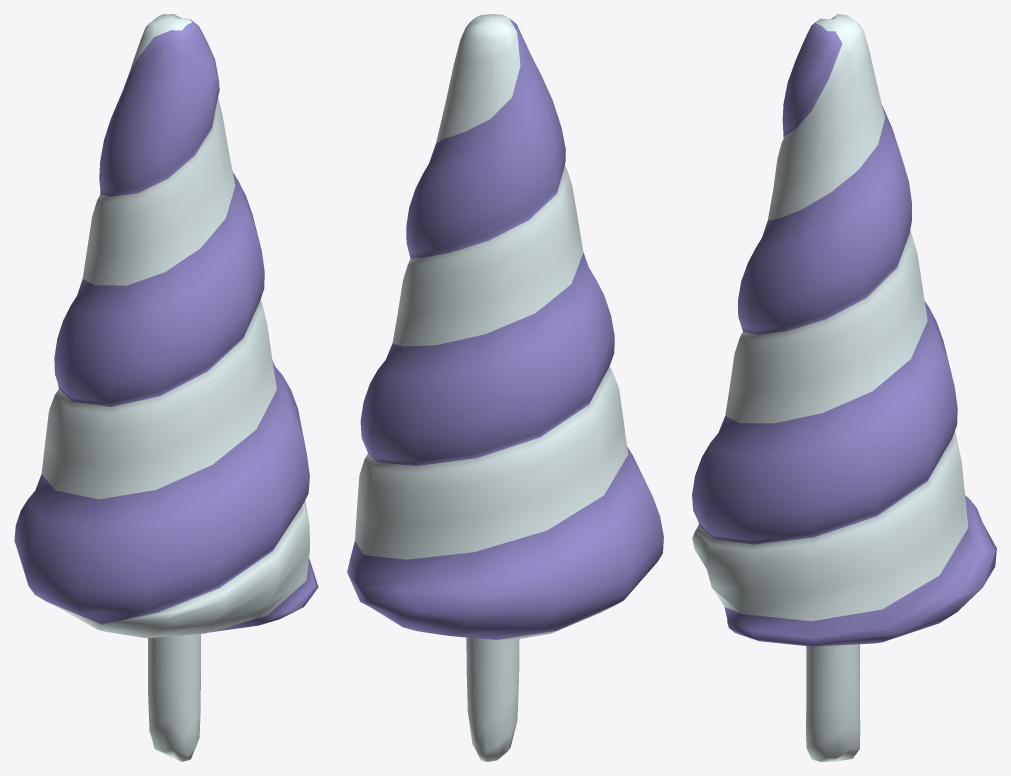
Rendered from Tree_Candy_04.fbx.
3 renders of one model, left to right at view 1: azimuth 30°, elevation 25°; view 2: azimuth 150°, elevation 25°; view 3: azimuth 270°, elevation 25°, orthographic.
Parts seen in each view (by area): view 1: Tree_Candy_04_LOD0; view 2: Tree_Candy_04_LOD0; view 3: Tree_Candy_04_LOD0.
Part boxes in pixels (box(x1,y1,x2,y2)): Tree_Candy_04_LOD0: box(14, 14, 318, 761); Tree_Candy_04_LOD0: box(347, 14, 663, 761); Tree_Candy_04_LOD0: box(692, 14, 996, 761).
Size of what is drawn, in the model's own units: 454 by 1210 by 451.
